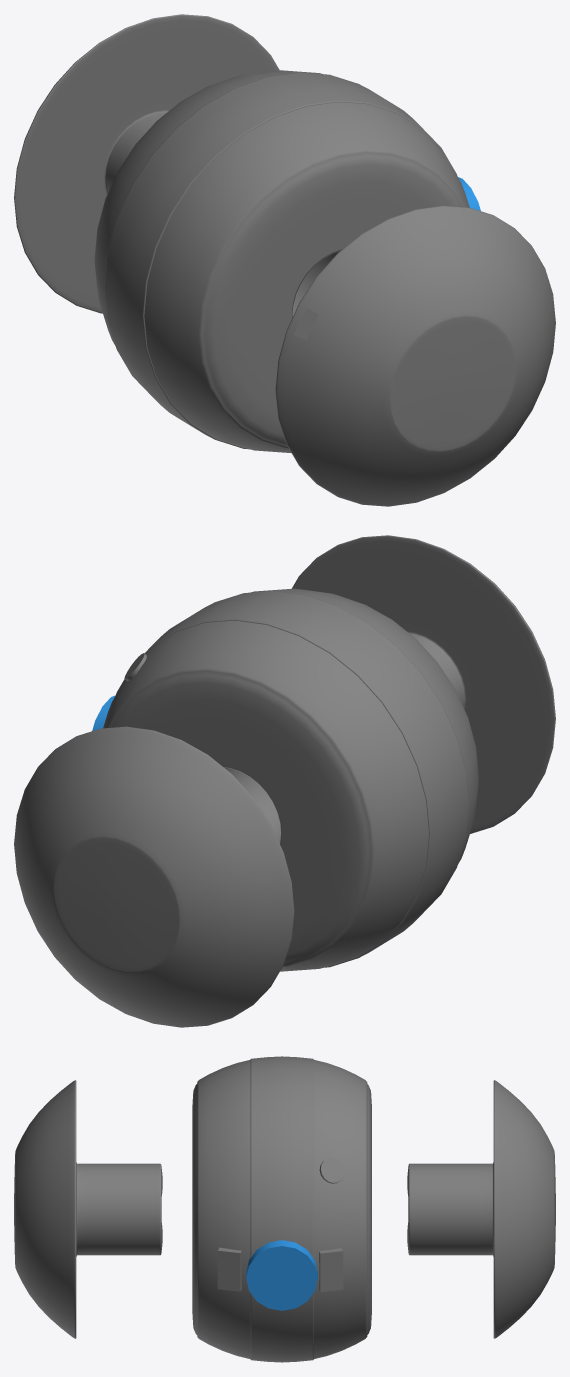
The model's file is DroneLens.fbx.
The picture shows the model from 3 angles, top to bottom: view 1: azimuth 30°, elevation 25°; view 2: azimuth 150°, elevation 25°; view 3: azimuth 270°, elevation 25°; orthographic projection. The views are drawn at different scales.
Parts seen in each view (by area): view 1: group2polySurface9, group2pSphere11, polySurface8group2, group2pSphere13; view 2: polySurface8group2, group2pSphere11, group2polySurface9, group2pSphere13; view 3: group2pSphere11, group2polySurface9, polySurface8group2, group2pSphere13, Cylinder__1_, Cube__8_, Cube__7_, group2pSphere14.
Part boxes in pixels (bbox=[...]): group2polySurface9: bbox=[275, 205, 555, 506]; group2pSphere11: bbox=[94, 70, 469, 452]; polySurface8group2: bbox=[14, 14, 279, 313]; group2pSphere13: bbox=[104, 72, 457, 449]; polySurface8group2: bbox=[14, 726, 294, 1027]; group2pSphere11: bbox=[103, 588, 478, 971]; group2polySurface9: bbox=[292, 535, 555, 833]; group2pSphere13: bbox=[116, 591, 469, 967]; group2pSphere11: bbox=[192, 1059, 371, 1359]; group2polySurface9: bbox=[14, 1080, 162, 1338]; polySurface8group2: bbox=[407, 1080, 555, 1338]; group2pSphere13: bbox=[250, 1056, 313, 1362]; Cylinder__1_: bbox=[246, 1240, 317, 1310]; Cube__8_: bbox=[217, 1247, 241, 1291]; Cube__7_: bbox=[319, 1248, 343, 1291]; group2pSphere14: bbox=[319, 1157, 345, 1183].
Size of the model in its own units: 827 by 802 by 1420.
